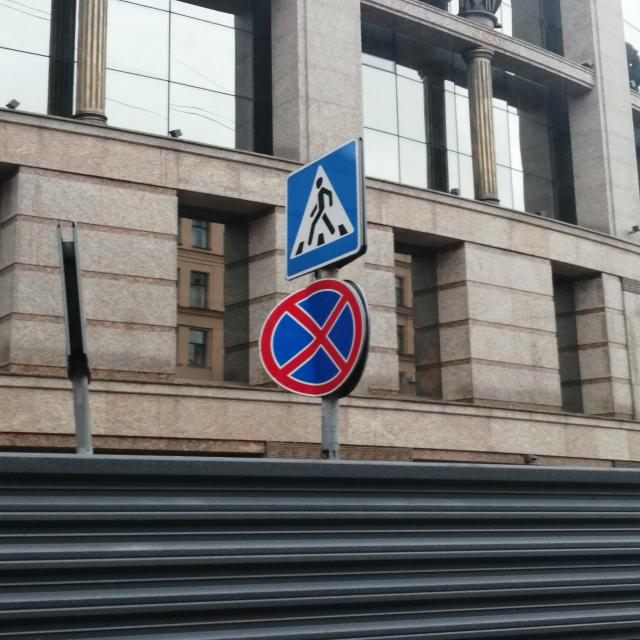road sign: (257, 279, 364, 398), (284, 138, 362, 281), (322, 396, 338, 459)
